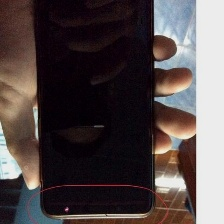phone: (22, 0, 161, 222)
